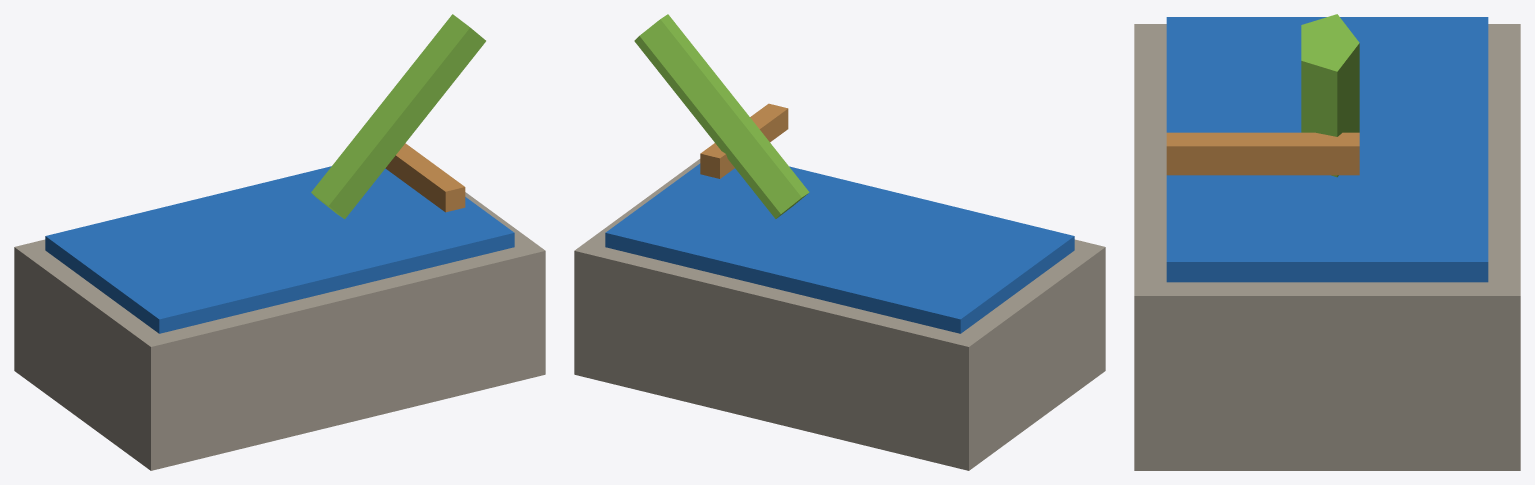
The model's file is purification_fountain.fbx.
3 views of the same model, side by side, from view 1: azimuth 30°, elevation 25°; view 2: azimuth 150°, elevation 25°; view 3: azimuth 270°, elevation 25° (orthographic). The views are drawn at different scales.
Visible parts, largest first — view 1: purification_fountain; view 2: purification_fountain; view 3: purification_fountain.
Part boxes in pixels (box(x1,y1,x2,y2)): purification_fountain: box(14, 14, 545, 470); purification_fountain: box(574, 14, 1105, 470); purification_fountain: box(1134, 14, 1520, 470).
Bounding box in the file's own units: 2.02 × 1.52 × 1.2.
